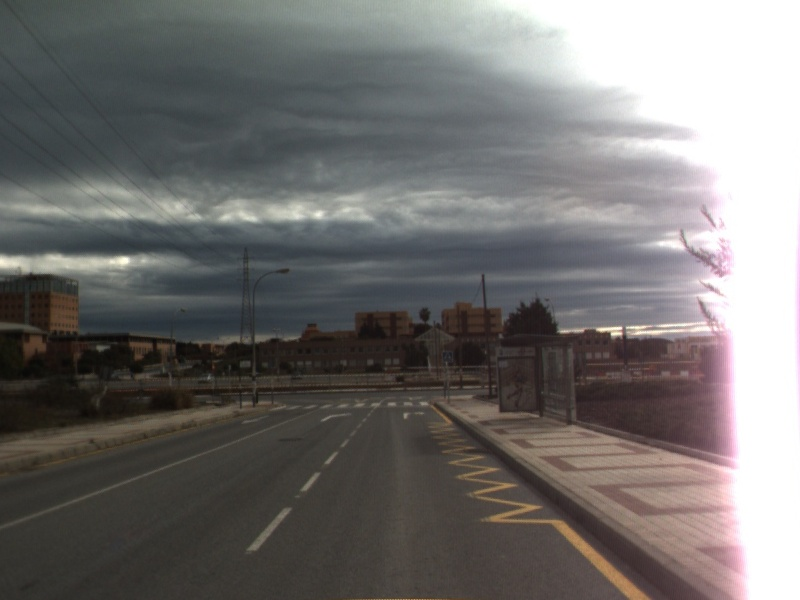RIGHT: (318, 409, 355, 424), (400, 409, 428, 421)
